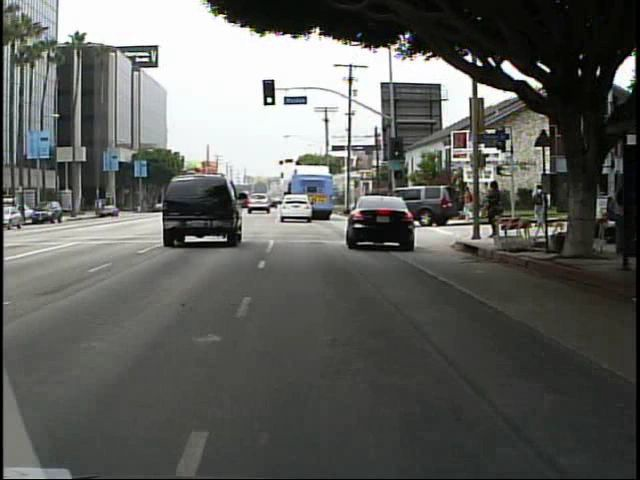person: (483, 176, 505, 244), (528, 182, 548, 238)
